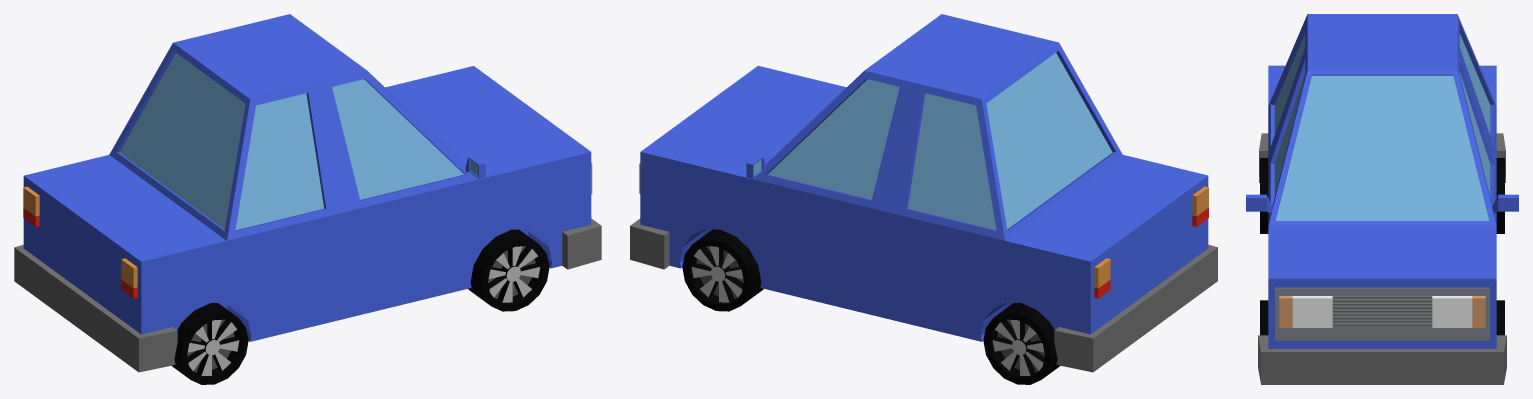
The model's file is FinishedLowPolyCarFixedFinalForm.fbx.
3 views of the same model, side by side, from view 1: azimuth 30°, elevation 25°; view 2: azimuth 150°, elevation 25°; view 3: azimuth 270°, elevation 25° (orthographic). The views are drawn at different scales.
Parts seen in each view (by area): view 1: Cube, Cylinder.001, Cylinder.004, Cube.003; view 2: Cube, Cylinder.001, Cylinder.004, Cube.003; view 3: Cube, Cube.001, Cube.002, Cylinder.004, Cube.004, Cylinder.001, Cylinder.007, Cylinder.015, Cylinder.018, Cylinder.024, Cylinder.006.
Boxes of the visible parts, box(x1,y1,x2,y2) form: Cube: box(14, 14, 601, 372); Cylinder.001: box(468, 229, 549, 311); Cylinder.004: box(171, 303, 248, 384); Cube.003: box(23, 186, 137, 298); Cube: box(630, 14, 1217, 372); Cylinder.001: box(682, 229, 763, 311); Cylinder.004: box(983, 303, 1060, 384); Cube.003: box(1094, 186, 1208, 298); Cube: box(1258, 14, 1506, 384); Cube.001: box(1275, 287, 1489, 340); Cube.002: box(1279, 296, 1485, 327); Cylinder.004: box(1260, 158, 1504, 233); Cube.004: box(1246, 194, 1518, 213); Cylinder.001: box(1260, 300, 1504, 335); Cylinder.007: box(1332, 306, 1432, 308); Cylinder.015: box(1332, 313, 1432, 315); Cylinder.018: box(1332, 316, 1432, 318); Cylinder.024: box(1332, 323, 1432, 325); Cylinder.006: box(1332, 299, 1432, 301).
Size of the model in its own units: 272 by 142 by 143.
